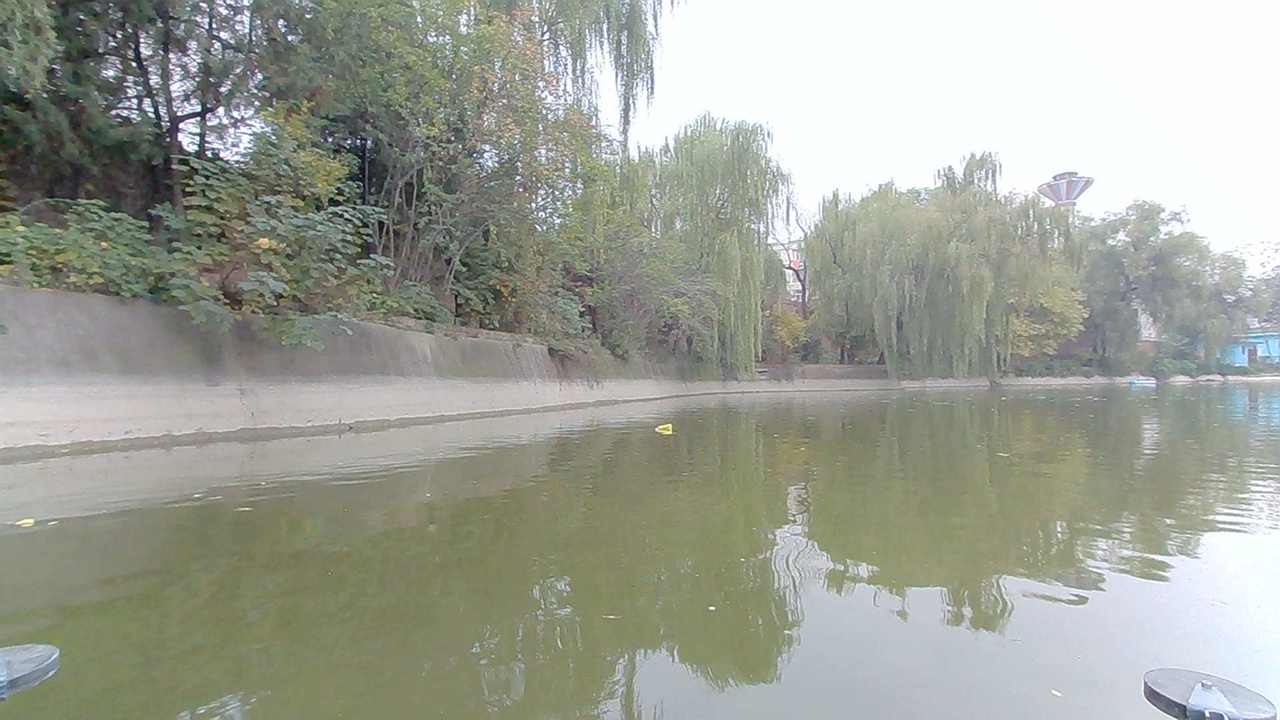bottle: (649, 418, 683, 441)
